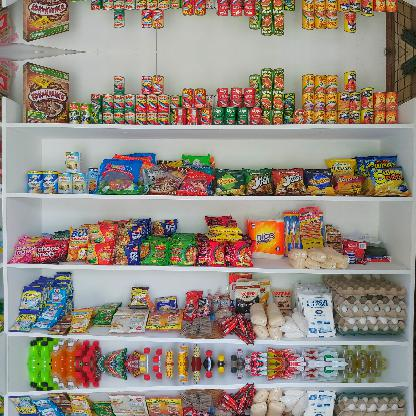Koko-Krunch: (23, 61, 69, 122), (23, 0, 70, 43)
